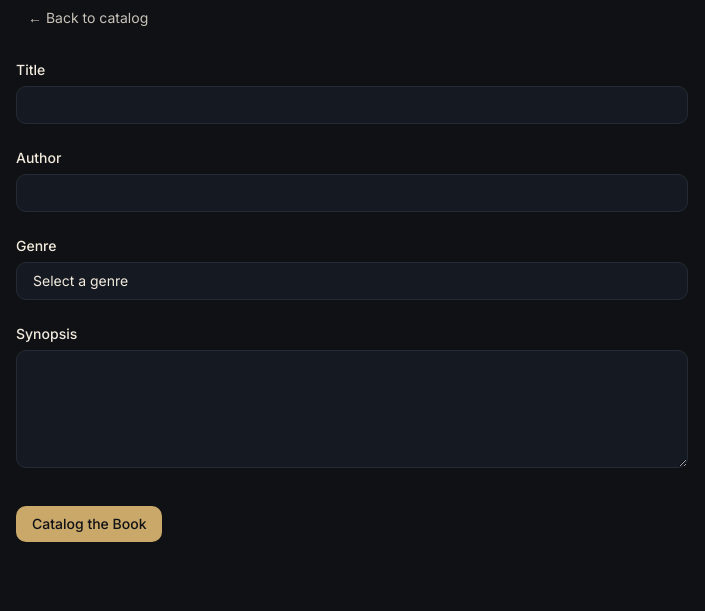
BookForm › shows field-level API errors under the respective fields
The image size is (705, 611).
In the field labelled "Title": (352, 105) [16,86,688,124], type "The Unquiet Archive"
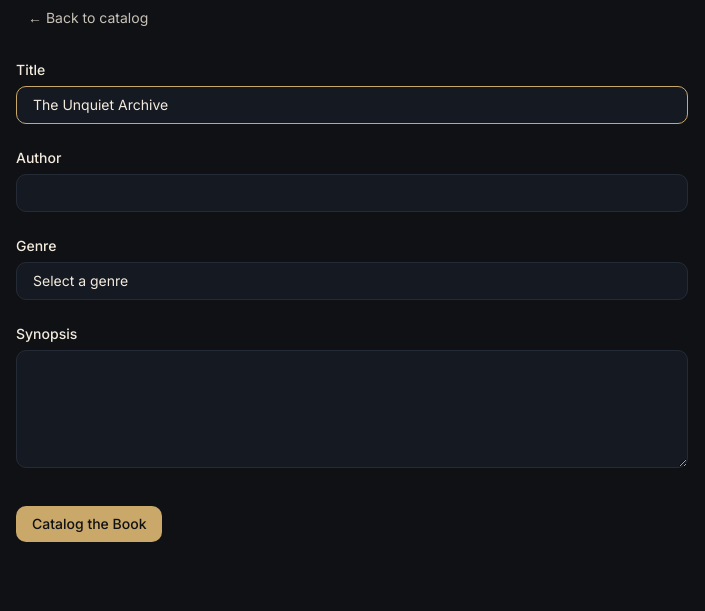
In the field labelled "Author": (352, 193) [16,174,688,212], type "Ada Lovelace"
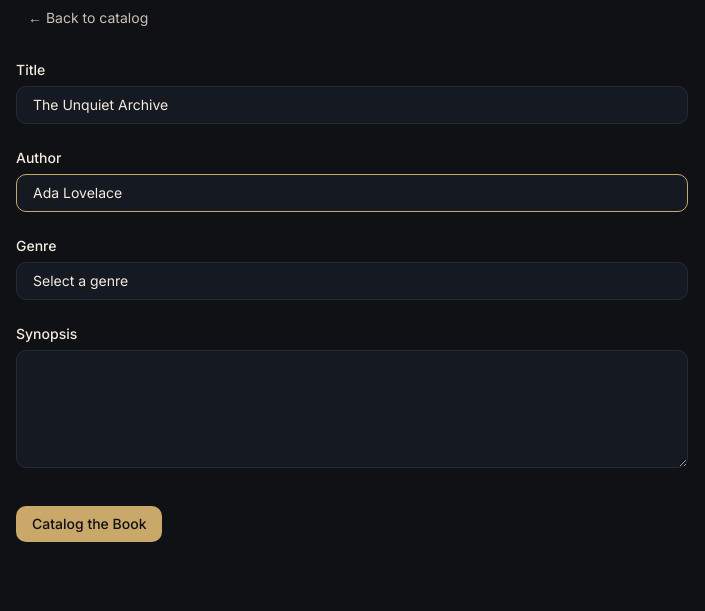
Select "Fantasy" in the dropdown labelled "Genre": (352, 281) [16,262,688,300]
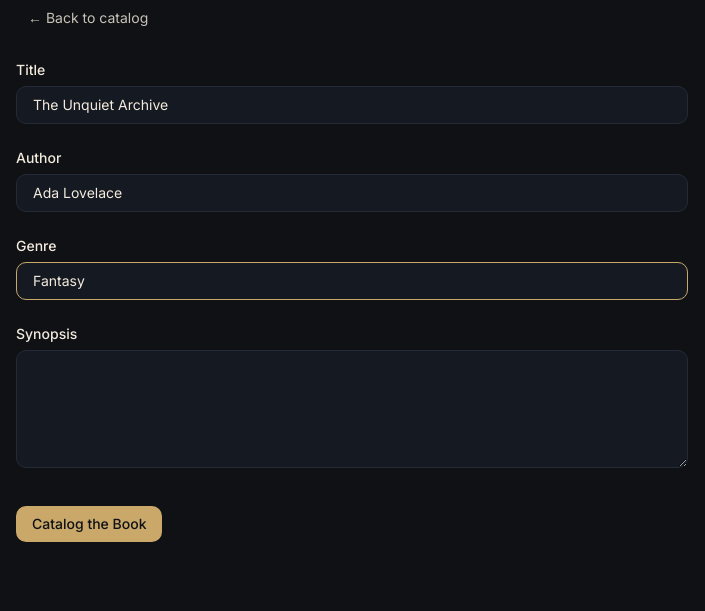
In the text box labelled "Synopsis": (352, 409) [16,350,688,468], type "A catalog of doors that open only once."
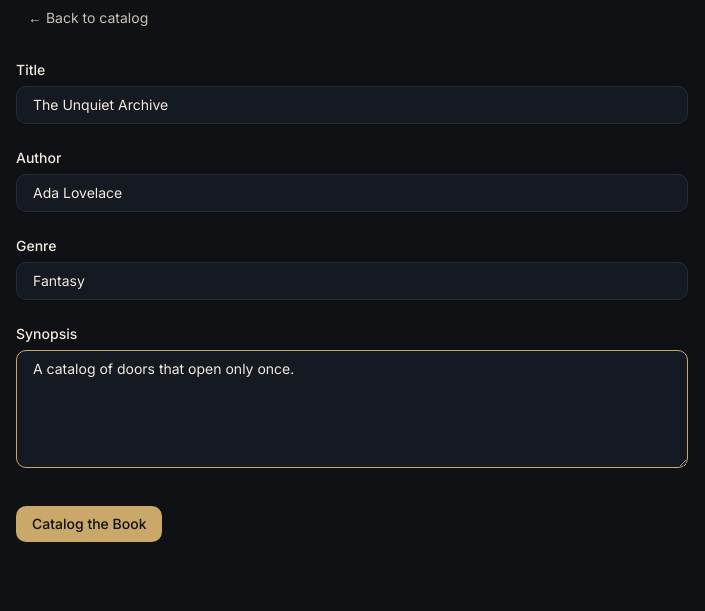
Click the button "Catalog the Book": click(89, 524) [16,506,162,542]
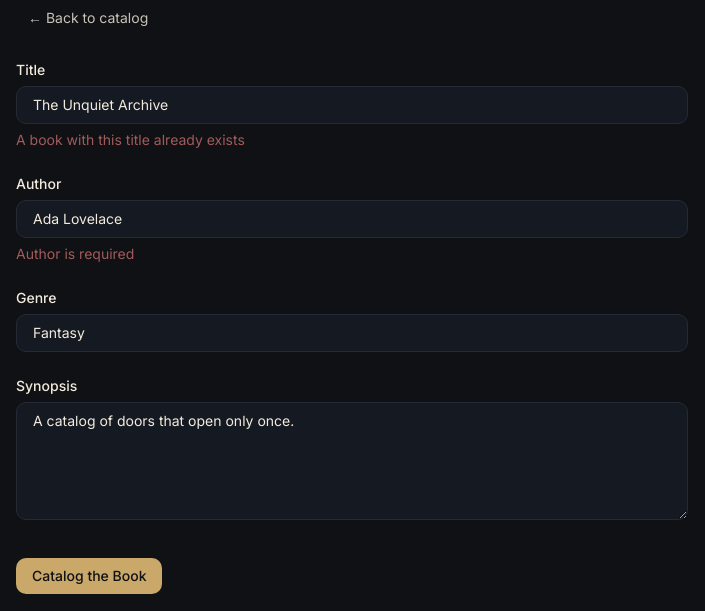
Check: the text "A book with this title already exists" is shown, box [16,131,245,148]
Check: the text "Author is required" is shown, box [16,245,134,262]
